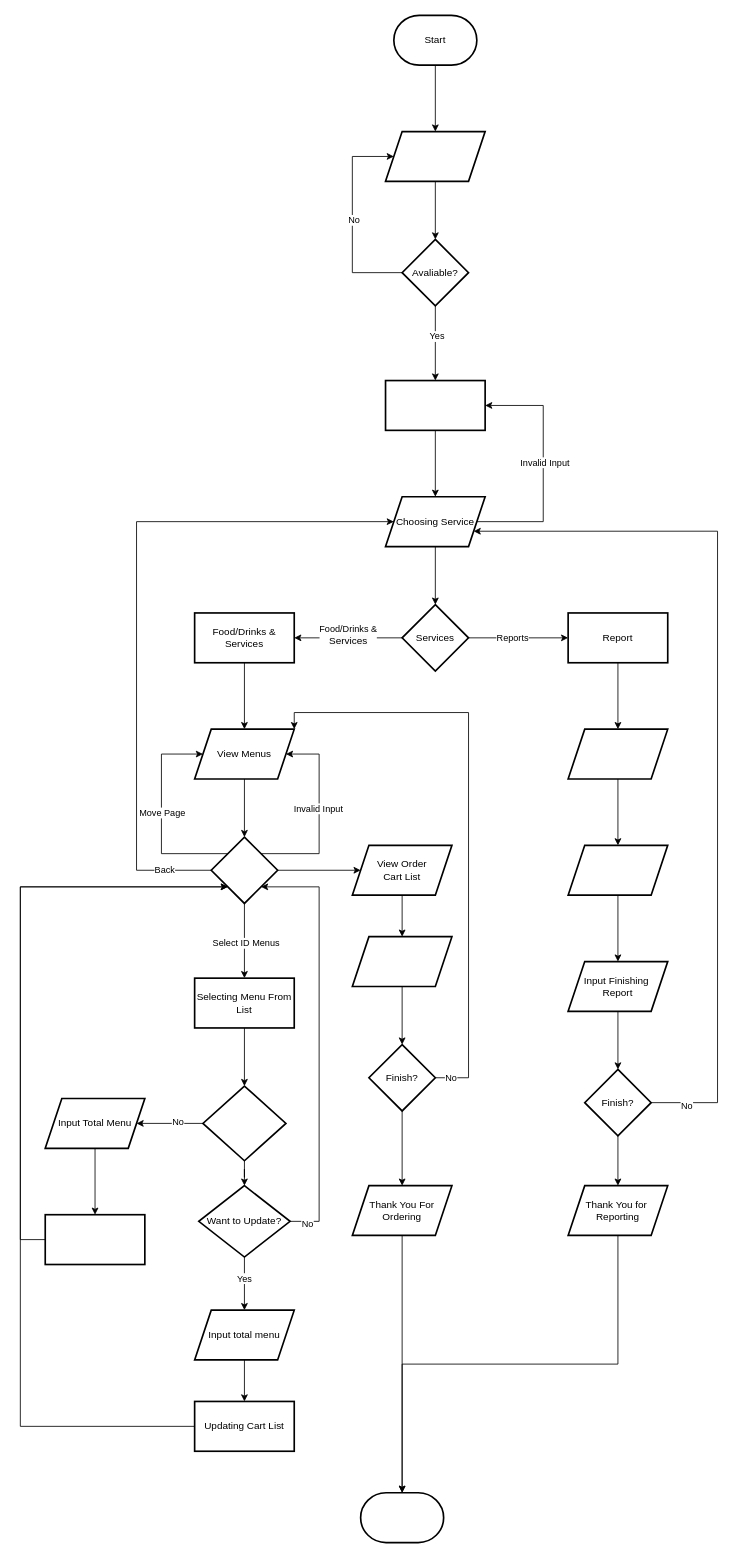
Image size: 739x1557. Some labels were removed from this diagram. The box of each missing label's shape, as (x1, y1, x2, y2) in pixels:
End: (359, 1492, 444, 1543)
Input Description Report: (567, 844, 668, 896)
Input Finishing Order: (351, 935, 452, 987)
Input Room: (384, 130, 486, 182)
Inputing: (210, 836, 278, 904)
Insert new Menu to cart: (44, 1213, 145, 1265)
Menu Already on Cart?: (202, 1085, 286, 1161)
View Report: (567, 728, 668, 779)
View Services: (384, 379, 486, 431)
